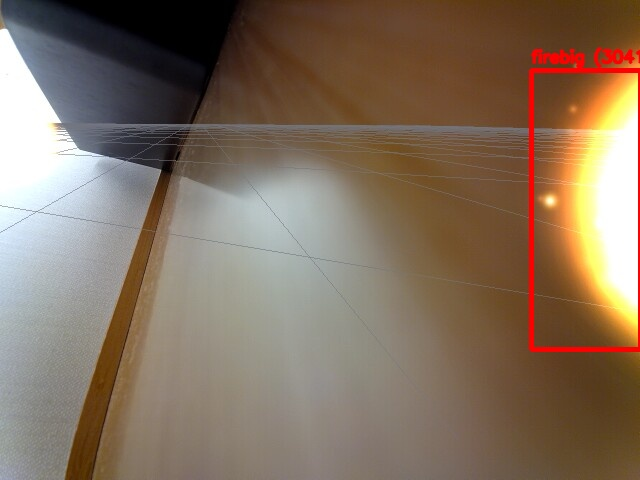firebig: (531, 70, 640, 349)
